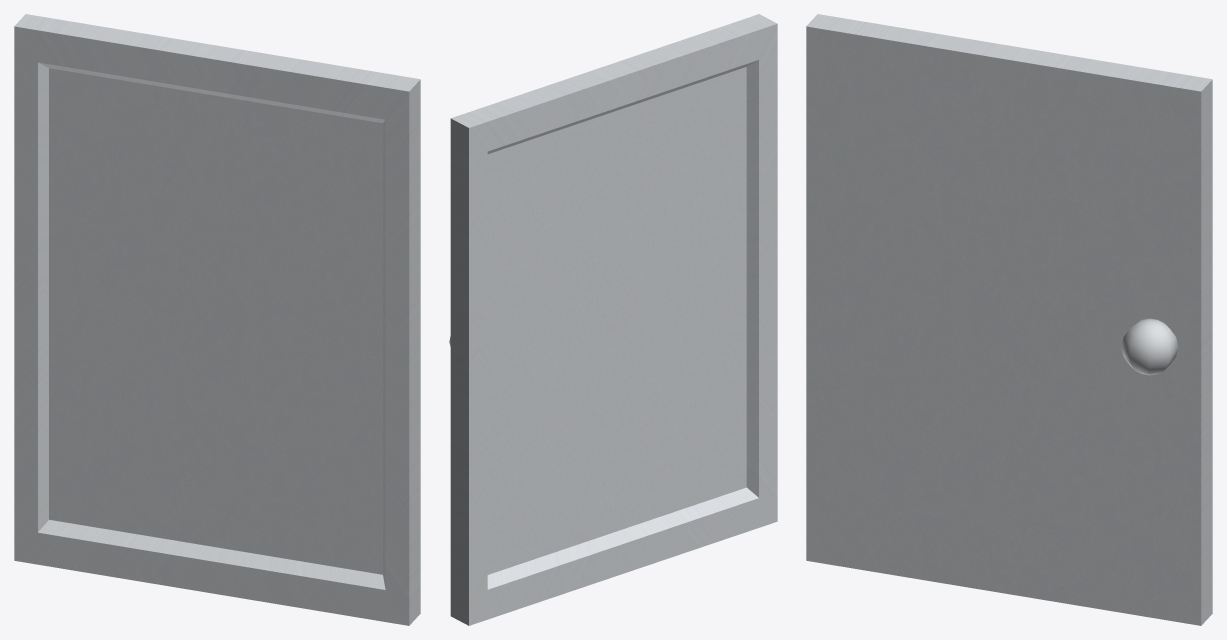
File: PnnelFuseDoor.fbx
3 views of the same model, side by side, from view 1: azimuth 90°, elevation 25°; view 2: azimuth 150°, elevation 25°; view 3: azimuth 270°, elevation 25° (orthographic). The views are drawn at different scales.
Parts seen in each view (by area): view 1: PintuPannel; view 2: PintuPannel; view 3: PintuPannel.
Boxes of the visible parts, x1,y1,x2,y2 form: PintuPannel: (14, 14, 420, 625); PintuPannel: (449, 14, 777, 625); PintuPannel: (806, 14, 1212, 625).
Bounding box in the file's own units: 69.68 × 194 × 134.
